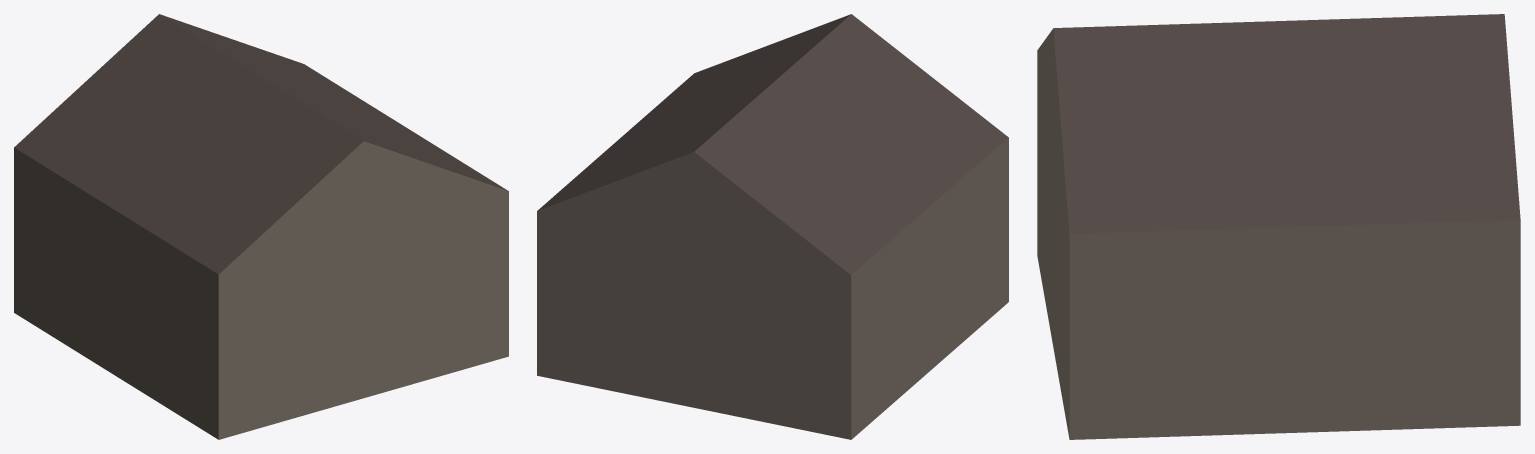
3 renders of one model, left to right at view 1: azimuth 30°, elevation 25°; view 2: azimuth 150°, elevation 25°; view 3: azimuth 270°, elevation 25°, orthographic. The views are drawn at different scales.
Parts seen in each view (by area): view 1: HP-w859467742; view 2: HP-w859467742; view 3: HP-w859467742.
Part boxes in pixels (x1,y1,x2,y2): HP-w859467742: (14,14,508,439); HP-w859467742: (537,14,1008,439); HP-w859467742: (1037,14,1520,439).
Bounding box in the file's own units: 18.58 × 13.99 × 19.16.
